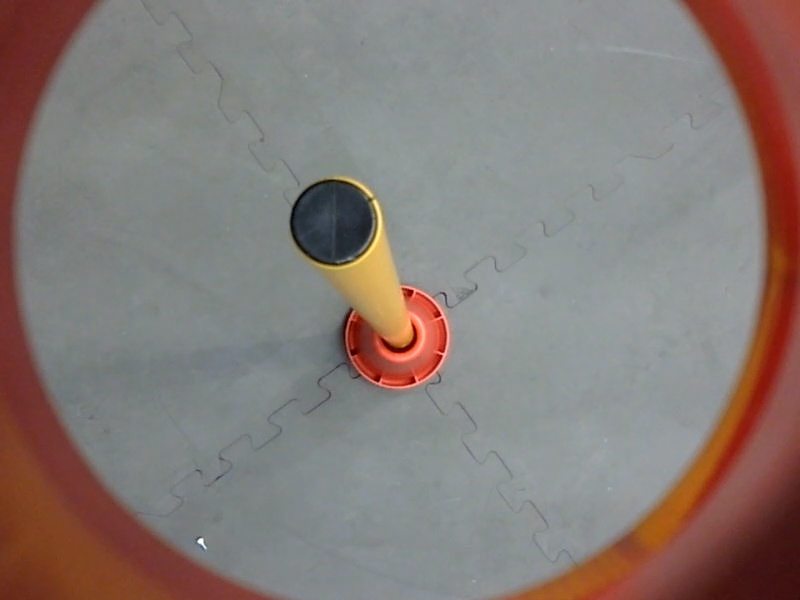tip: (283, 171, 389, 276)
